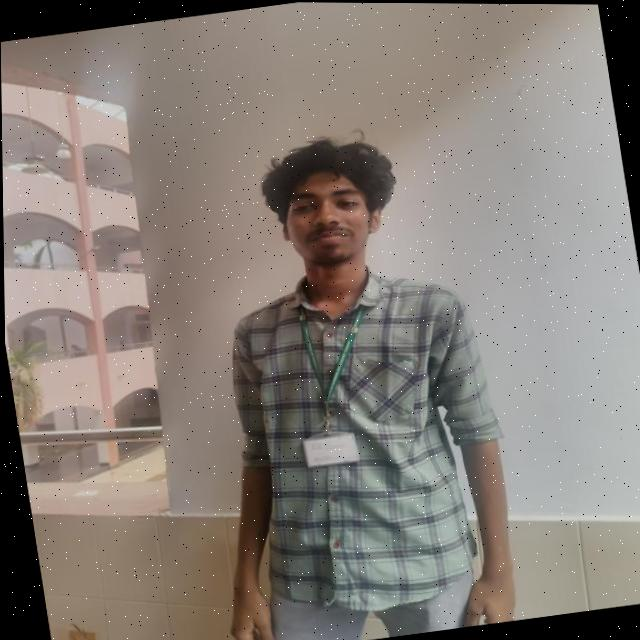id_card: (277, 297, 372, 476)
